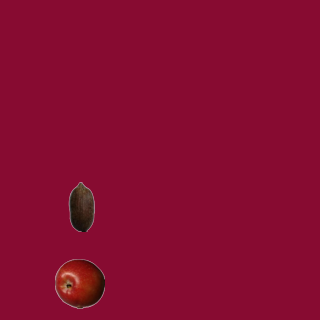Apple Braeburn: (54, 258, 104, 308)
Nut Pecan: (56, 181, 106, 231)
